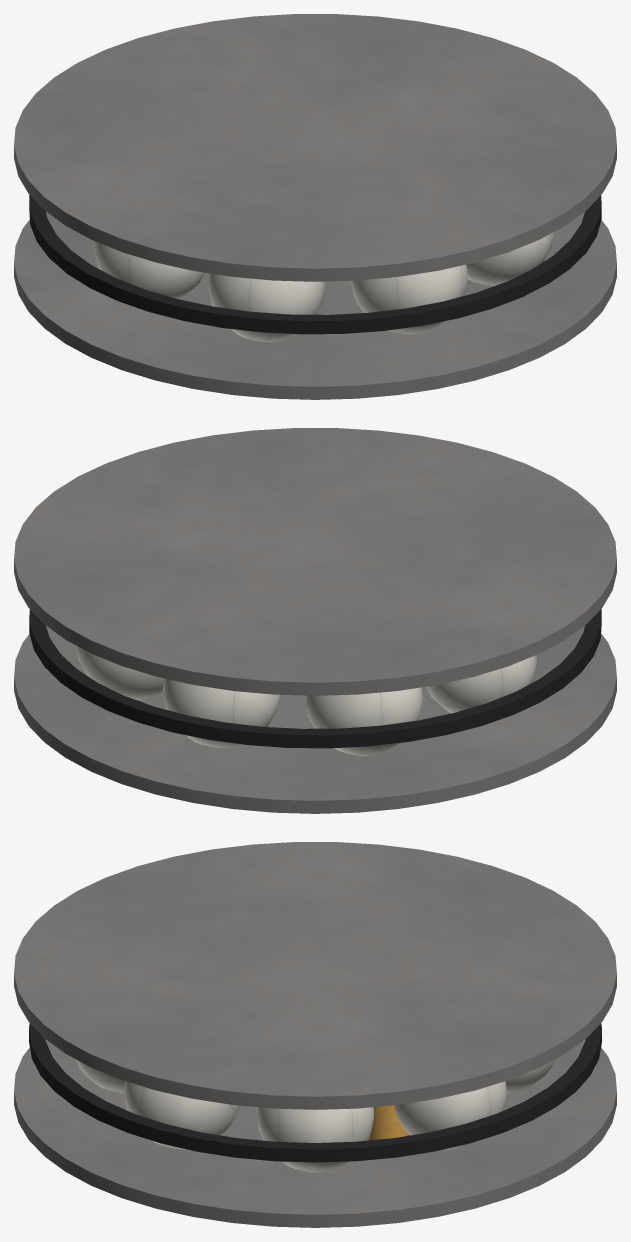
The model's file is stage15_landing_airbags_m.glb.
3 views of the same model, one above another, from view 1: azimuth 30°, elevation 25°; view 2: azimuth 150°, elevation 25°; view 3: azimuth 270°, elevation 25° (orthographic).
Parts seen in each view (by area): view 1: top_plate, base_plate, bag_stowed, restraint_straps; view 2: top_plate, base_plate, bag_stowed, restraint_straps; view 3: top_plate, base_plate, restraint_straps, bag_stowed, gas_generators.
Boxes of the visible parts, left/top/right/bottom form: top_plate: left=14, top=14, right=616, bottom=281; base_plate: left=14, top=211, right=616, bottom=399; bag_stowed: left=94, top=232, right=554, bottom=341; restraint_straps: left=29, top=195, right=601, bottom=334; top_plate: left=14, top=428, right=616, bottom=695; base_plate: left=14, top=625, right=616, bottom=813; bag_stowed: left=76, top=646, right=536, bottom=755; restraint_straps: left=29, top=609, right=601, bottom=748; top_plate: left=14, top=842, right=616, bottom=1109; base_plate: left=14, top=1039, right=616, bottom=1227; restraint_straps: left=29, top=1023, right=601, bottom=1162; bag_stowed: left=75, top=1059, right=555, bottom=1172; gas_generators: left=367, top=1105, right=408, bottom=1140.
Size of the model in its own units: 2.5 by 0.6 by 2.5.
4 materials, 3 textured.
